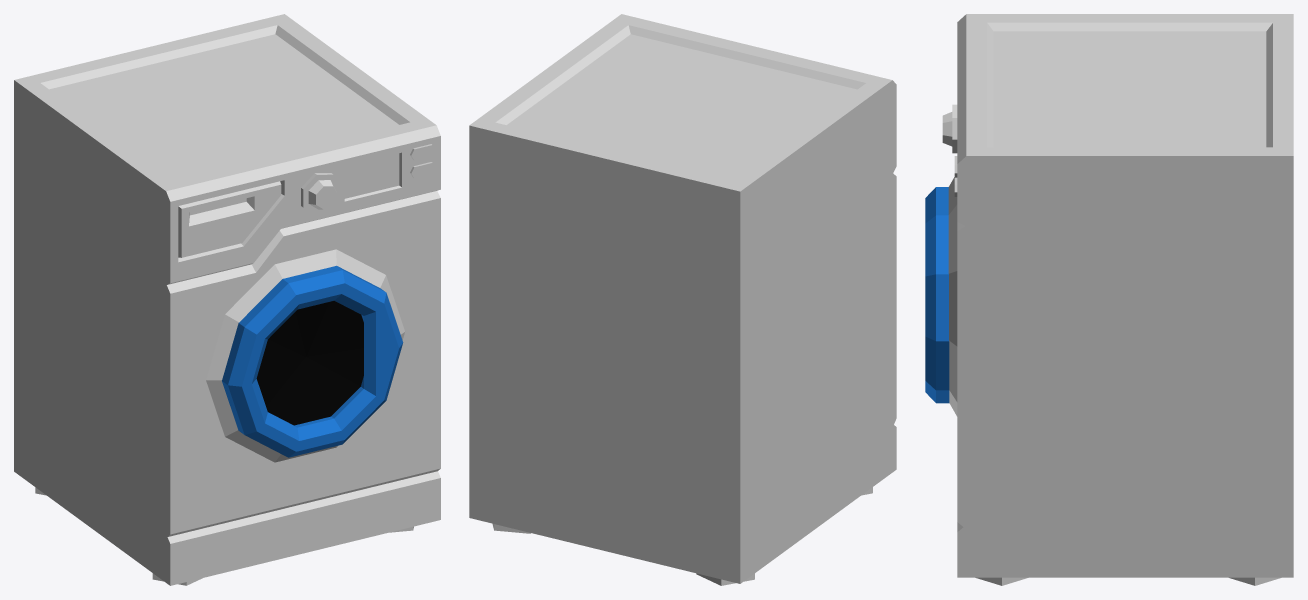
The model's file is SM_washing_machine.fbx.
3 views of the same model, side by side, from view 1: azimuth 30°, elevation 25°; view 2: azimuth 150°, elevation 25°; view 3: azimuth 270°, elevation 25° (orthographic). The views are drawn at different scales.
Parts seen in each view (by area): view 1: washing_machine, Cylinder; view 2: washing_machine; view 3: washing_machine, Cylinder.
Part boxes in pixels (x1,y1,x2,y2): washing_machine: [14, 14, 440, 585]; Cylinder: [222, 265, 403, 457]; washing_machine: [469, 14, 896, 585]; washing_machine: [942, 14, 1293, 585]; Cylinder: [925, 187, 949, 403].
Bounding box in the file's own units: 60 × 85 × 65.74.
